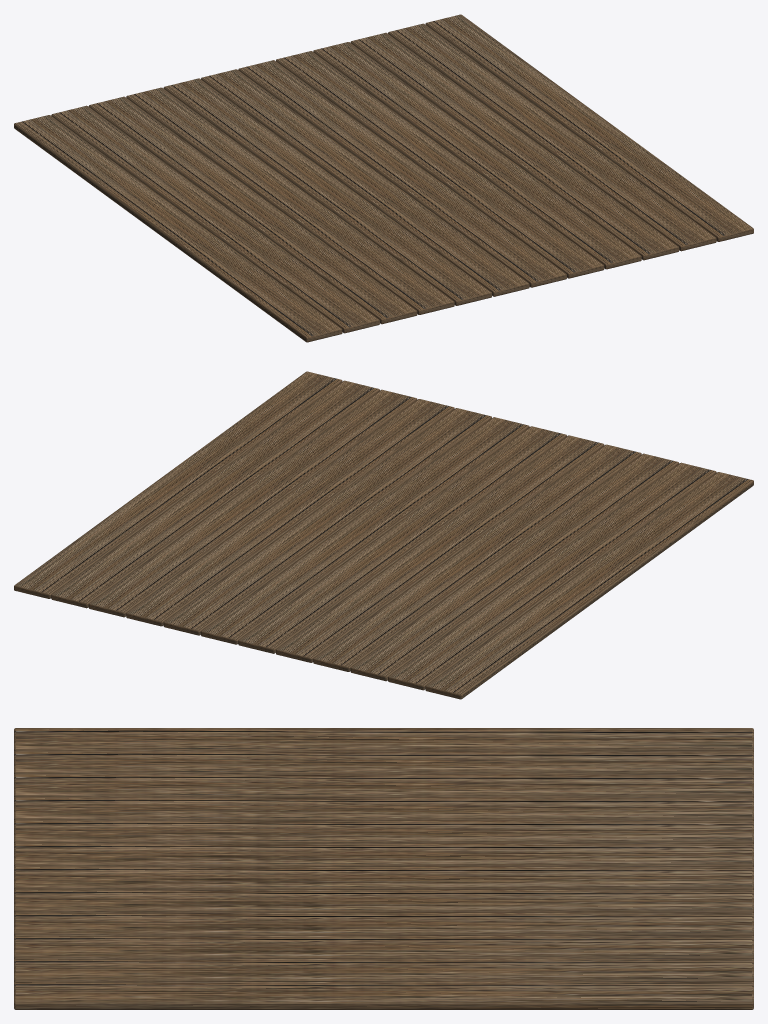
Rendered from floor.glb.
3 renders of one model, top to bottom at view 1: azimuth 30°, elevation 25°; view 2: azimuth 150°, elevation 25°; view 3: azimuth 270°, elevation 25°, orthographic. The views are drawn at different scales.
Visible parts, largest first — view 1: Reclaimed floor strip, Reclaimed floor strip.006, Reclaimed floor strip.007, Reclaimed floor strip.009, Reclaimed floor strip.003, Reclaimed floor strip.004, Reclaimed floor strip.005, Reclaimed floor strip.001, Reclaimed floor strip.002, Reclaimed floor strip.008, Reclaimed floor strip.010, Reclaimed floor strip.011; view 2: Reclaimed floor strip, Reclaimed floor strip.006, Reclaimed floor strip.007, Reclaimed floor strip.009, Reclaimed floor strip.003, Reclaimed floor strip.004, Reclaimed floor strip.005, Reclaimed floor strip.001, Reclaimed floor strip.002, Reclaimed floor strip.008, Reclaimed floor strip.010, Reclaimed floor strip.011; view 3: Reclaimed floor strip.011, Reclaimed floor strip.005, Reclaimed floor strip.006, Reclaimed floor strip, Reclaimed floor strip.001, Reclaimed floor strip.002, Reclaimed floor strip.003, Reclaimed floor strip.004, Reclaimed floor strip.007, Reclaimed floor strip.008, Reclaimed floor strip.009, Reclaimed floor strip.010.
Boxes of the visible parts, x1=… form: Reclaimed floor strip: x1=14, y1=115, x2=342, y2=342; Reclaimed floor strip.006: x1=238, y1=60, x2=566, y2=287; Reclaimed floor strip.007: x1=276, y1=51, x2=604, y2=278; Reclaimed floor strip.009: x1=350, y1=32, x2=679, y2=260; Reclaimed floor strip.003: x1=126, y1=87, x2=454, y2=314; Reclaimed floor strip.004: x1=163, y1=78, x2=491, y2=305; Reclaimed floor strip.005: x1=201, y1=69, x2=529, y2=296; Reclaimed floor strip.001: x1=51, y1=105, x2=379, y2=333; Reclaimed floor strip.002: x1=88, y1=96, x2=417, y2=324; Reclaimed floor strip.008: x1=313, y1=42, x2=641, y2=269; Reclaimed floor strip.010: x1=388, y1=23, x2=716, y2=251; Reclaimed floor strip.011: x1=425, y1=14, x2=753, y2=241; Reclaimed floor strip: x1=425, y1=472, x2=753, y2=699; Reclaimed floor strip.006: x1=201, y1=417, x2=529, y2=644; Reclaimed floor strip.007: x1=163, y1=408, x2=491, y2=635; Reclaimed floor strip.009: x1=88, y1=389, x2=417, y2=617; Reclaimed floor strip.003: x1=313, y1=444, x2=641, y2=671; Reclaimed floor strip.004: x1=276, y1=435, x2=604, y2=662; Reclaimed floor strip.005: x1=238, y1=426, x2=566, y2=653; Reclaimed floor strip.001: x1=388, y1=462, x2=716, y2=690; Reclaimed floor strip.002: x1=350, y1=453, x2=679, y2=681; Reclaimed floor strip.008: x1=126, y1=399, x2=454, y2=626; Reclaimed floor strip.010: x1=51, y1=380, x2=379, y2=608; Reclaimed floor strip.011: x1=14, y1=371, x2=342, y2=598; Reclaimed floor strip.011: x1=14, y1=981, x2=753, y2=1009; Reclaimed floor strip.005: x1=14, y1=843, x2=753, y2=867; Reclaimed floor strip.006: x1=14, y1=866, x2=753, y2=890; Reclaimed floor strip: x1=14, y1=728, x2=753, y2=751; Reclaimed floor strip.001: x1=14, y1=751, x2=753, y2=774; Reclaimed floor strip.002: x1=14, y1=774, x2=753, y2=797; Reclaimed floor strip.003: x1=14, y1=797, x2=753, y2=820; Reclaimed floor strip.004: x1=14, y1=820, x2=753, y2=843; Reclaimed floor strip.007: x1=14, y1=889, x2=753, y2=913; Reclaimed floor strip.008: x1=14, y1=912, x2=753, y2=936; Reclaimed floor strip.009: x1=14, y1=935, x2=753, y2=959; Reclaimed floor strip.010: x1=14, y1=958, x2=753, y2=982.
Size of the model in its own units: 3.35 by 0.04 by 3.8.
1 material, 1 textured.
